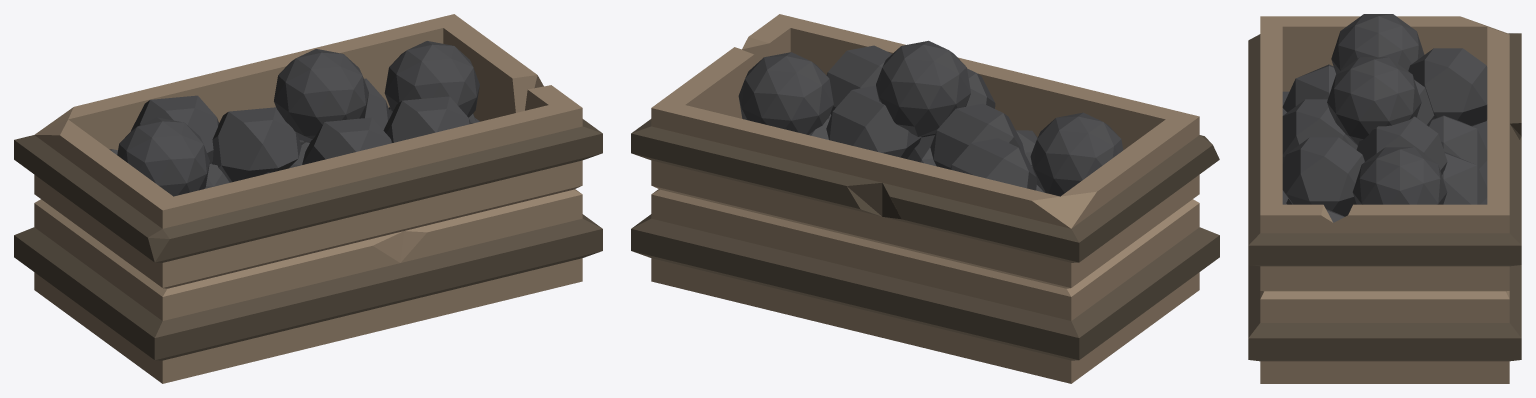
The model's file is SM_Prop_Crate_Cannonballs_01.glb.
The picture shows the model from 3 angles, left to right: view 1: azimuth 30°, elevation 25°; view 2: azimuth 150°, elevation 25°; view 3: azimuth 270°, elevation 25°; orthographic projection. The views are drawn at different scales.
Visible parts, largest first — view 1: SM_Prop_Crate_Cannonballs_01_part00; view 2: SM_Prop_Crate_Cannonballs_01_part00; view 3: SM_Prop_Crate_Cannonballs_01_part00.
Boxes of the visible parts, box(x1,y1,x2,y2) form: SM_Prop_Crate_Cannonballs_01_part00: box(14, 14, 602, 383); SM_Prop_Crate_Cannonballs_01_part00: box(631, 14, 1219, 383); SM_Prop_Crate_Cannonballs_01_part00: box(1248, 14, 1521, 383).
Size of the model in its own units: 0.9544 by 0.4786 by 0.5189.
1 material, 1 textured.
